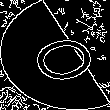O_NE: (12, 24, 98, 86)
